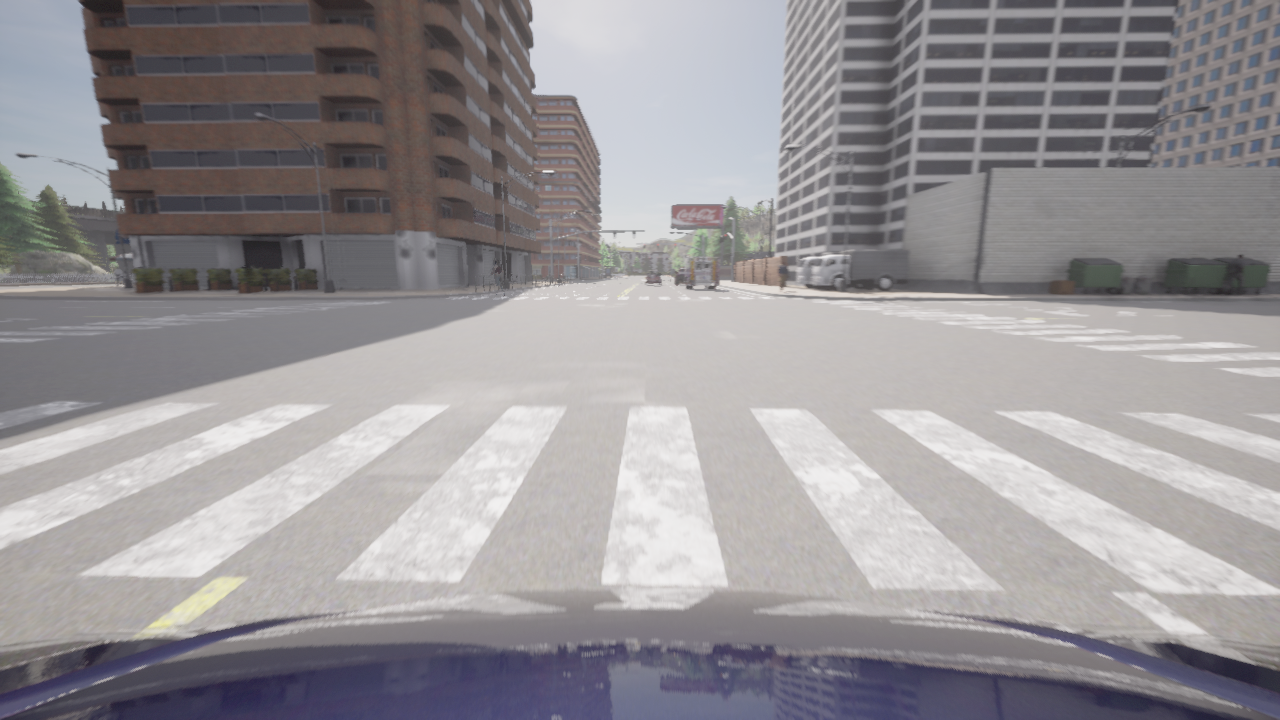cyclist: (0, 588, 1279, 719), (811, 250, 909, 290), (795, 252, 862, 288), (681, 256, 719, 289), (644, 270, 660, 285), (675, 270, 683, 284)
pedestrian: (1222, 254, 1246, 295), (489, 260, 505, 297), (777, 260, 788, 292)
